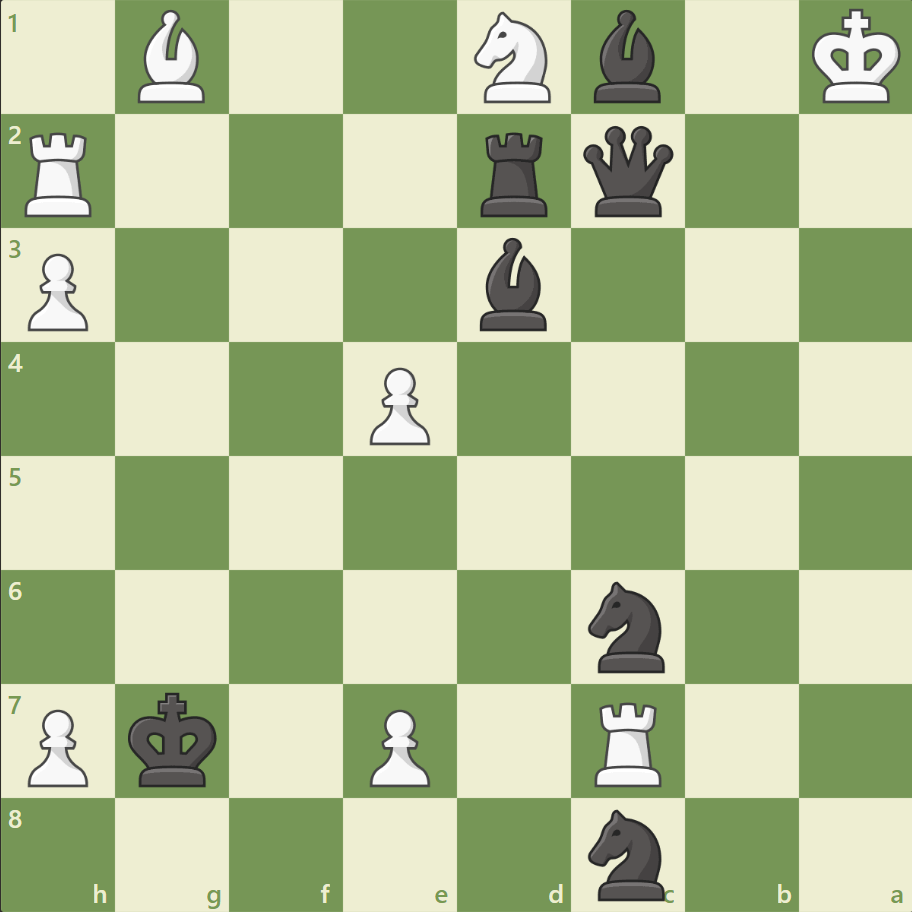B: (131, 6, 215, 109)
K: (806, 4, 906, 112)
N: (465, 7, 562, 110)
P: (20, 700, 95, 791), (20, 246, 95, 337), (361, 700, 435, 791), (361, 359, 435, 450)
R: (587, 693, 670, 790), (19, 125, 102, 222)
b: (471, 233, 555, 336), (585, 6, 669, 109)
k: (124, 685, 224, 793)
n: (579, 802, 676, 904), (579, 575, 676, 677)
q: (578, 122, 677, 222)
r: (473, 125, 556, 222)
